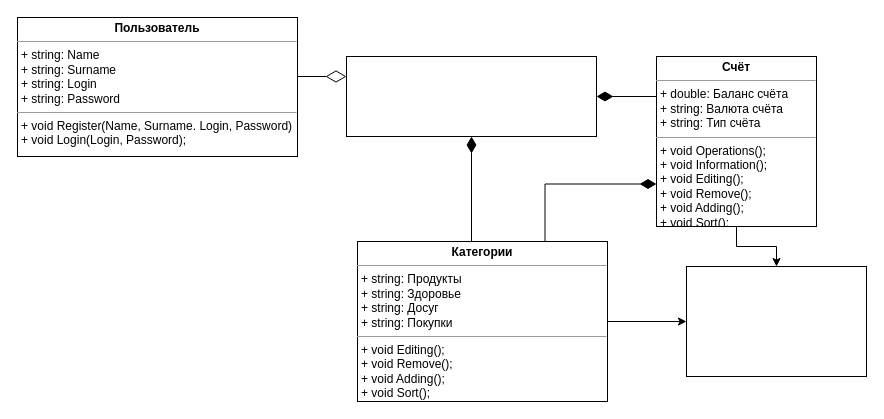
The diagram is 884 pixels wide and 419 high, and some of its shapes have lost their labels. Each missing label, with the centre of its shape:
"Вывод информации + void ShowInfo(); + void ShowStatistics();" goes at point (776, 321).
"Приложение + void Login(Login, Password);" goes at point (471, 96).
